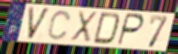7: (148, 14, 170, 49)
C: (46, 9, 72, 41)
D: (91, 11, 122, 46)
P: (116, 12, 146, 47)
V: (27, 6, 52, 42)
X: (69, 10, 99, 45)
